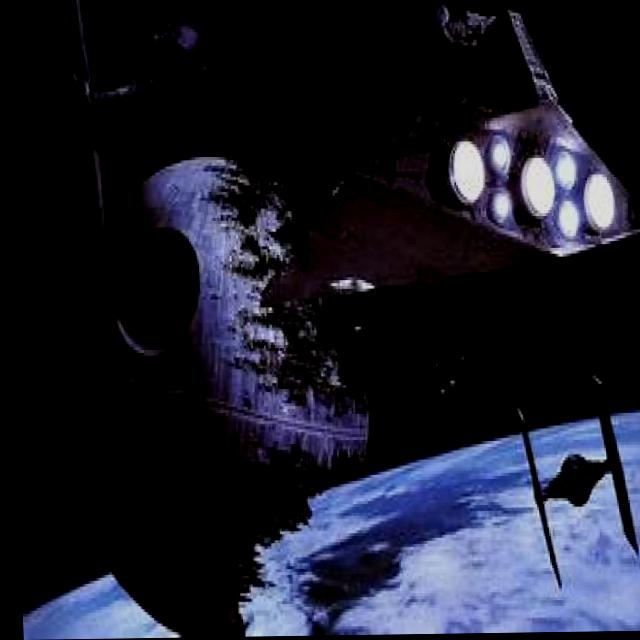deathStar: (71, 157, 375, 639)
